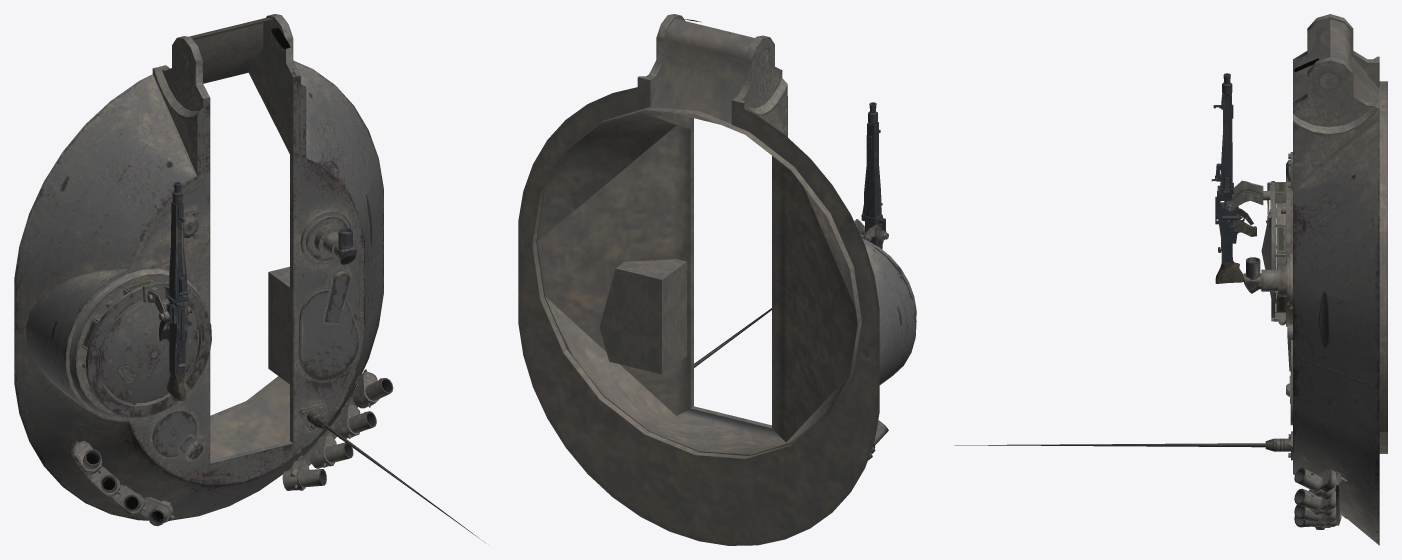
File: Turret_01.glb
3 views of the same model, side by side, from view 1: azimuth 30°, elevation 25°; view 2: azimuth 150°, elevation 25°; view 3: azimuth 270°, elevation 25° (orthographic). The views are drawn at different scales.
Visible parts, largest first — view 1: set_0_group_0; view 2: set_0_group_0; view 3: set_0_group_0.
Boxes of the visible parts, left/top/right/bottom form: set_0_group_0: left=14, top=14, right=483, bottom=541; set_0_group_0: left=518, top=14, right=916, bottom=545; set_0_group_0: left=954, top=14, right=1387, bottom=545.
Size of the model in its own units: 2.22 by 2.91 by 2.36.
1 material, 1 textured.
